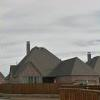Chimney: (21, 36, 34, 56)
